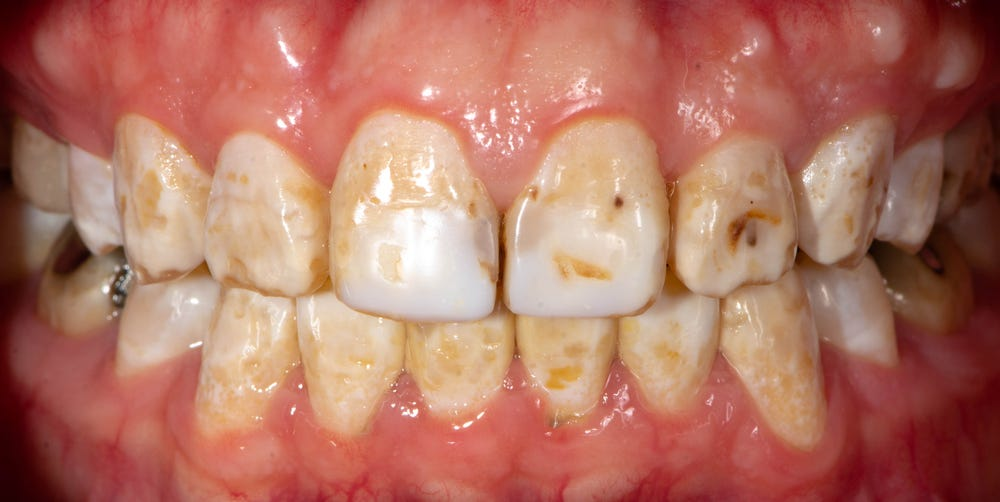LL1BC_decay: (812, 265, 908, 378)
LLCI_decay: (517, 314, 617, 420)
LLC_decay: (720, 285, 830, 453)
LLLI_decay: (612, 312, 722, 413)
LR1BC_decay: (115, 275, 212, 377)
LR2BC_decay: (31, 235, 122, 337)
LRCI_decay: (408, 320, 515, 432)
LRC_decay: (195, 290, 295, 444)
LRLI_decay: (300, 298, 408, 440)
UL1BC_decay: (874, 133, 957, 255)
ULCI_decay: (499, 116, 677, 317)
ULC_decay: (795, 109, 900, 269)
ULLI_decay: (673, 143, 801, 297)
UR1BC_decay: (66, 140, 127, 259)
UR1M_healthy: (14, 113, 71, 213)
URCI_decay: (328, 111, 502, 322)
URC_decay: (104, 114, 208, 280)
URLI_decay: (205, 131, 328, 295)
